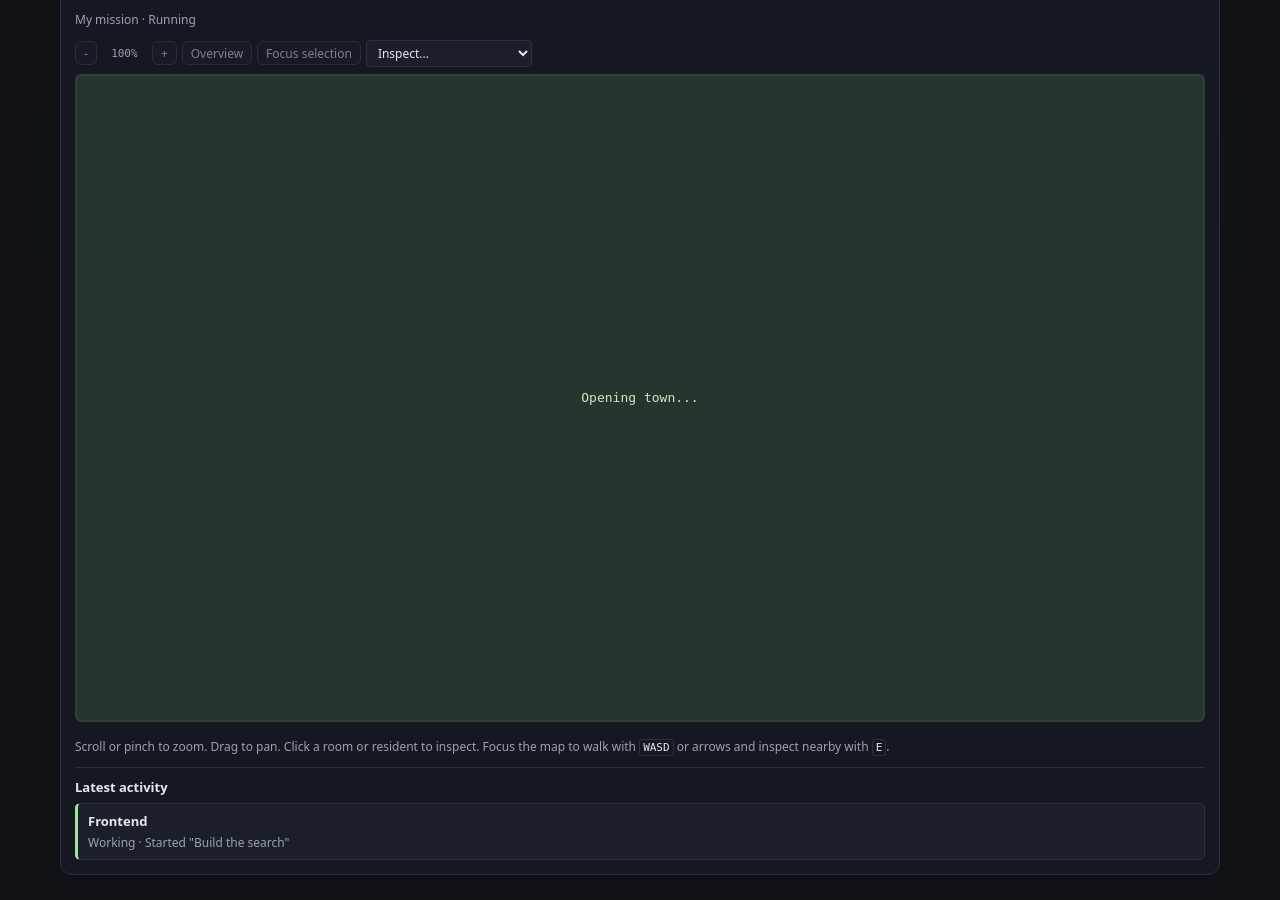
Test: useMission (live, not polled) › switches Town from sample data to the selected mission without loading checkpoints or needs
This screenshot has width=1280, height=900.
Earlier steps of the test are not shown.
Later steps or results of the test are not shown.
(page scrolled)
Click the button "Frontend Working · Started \"Build the search\"" at (118, 821), box x1=75 y1=803 x2=1205 y2=860
(page scrolled)
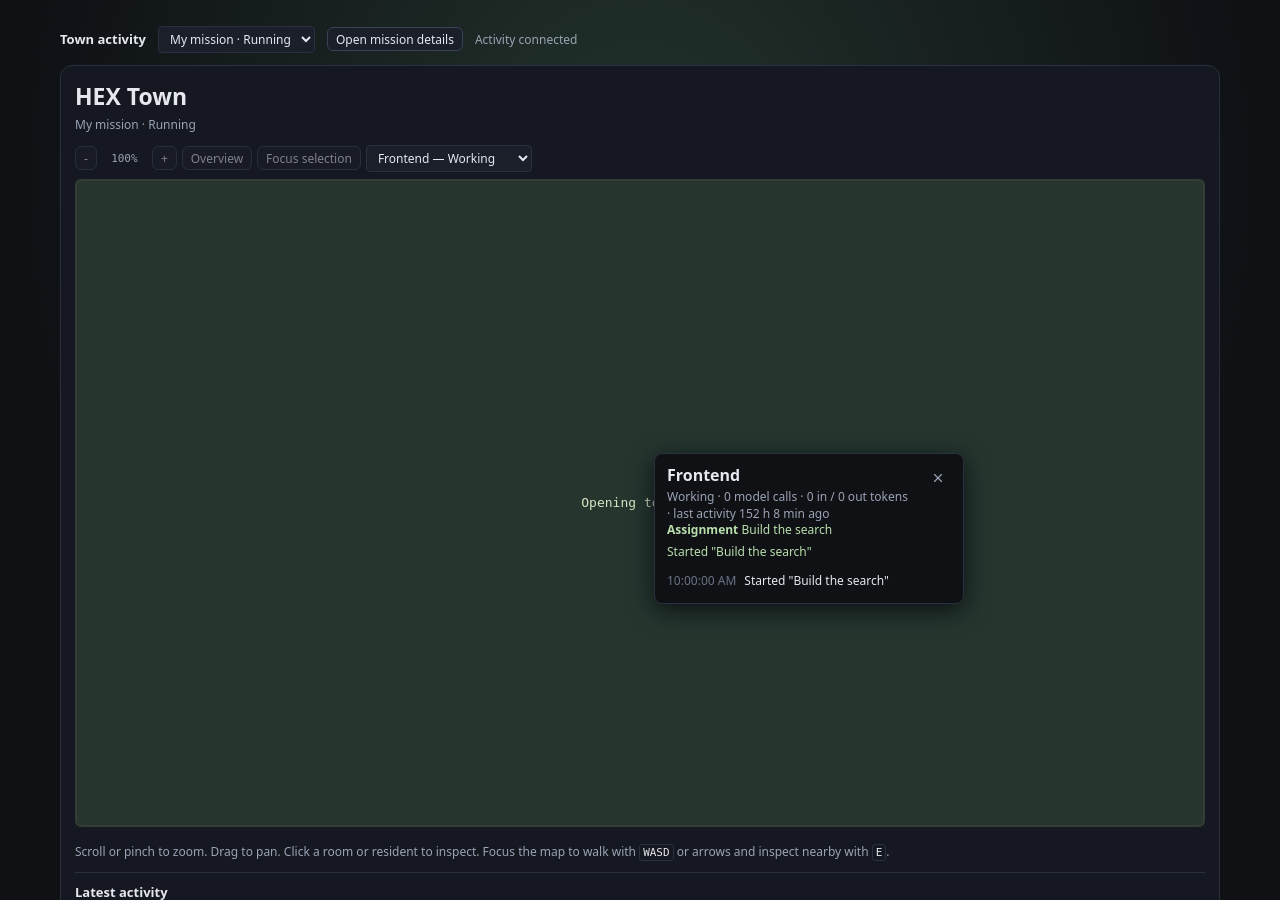
Now the dialog "Frontend" shows "Started \"Build the search\"", box x1=667 y1=543 x2=812 y2=560
